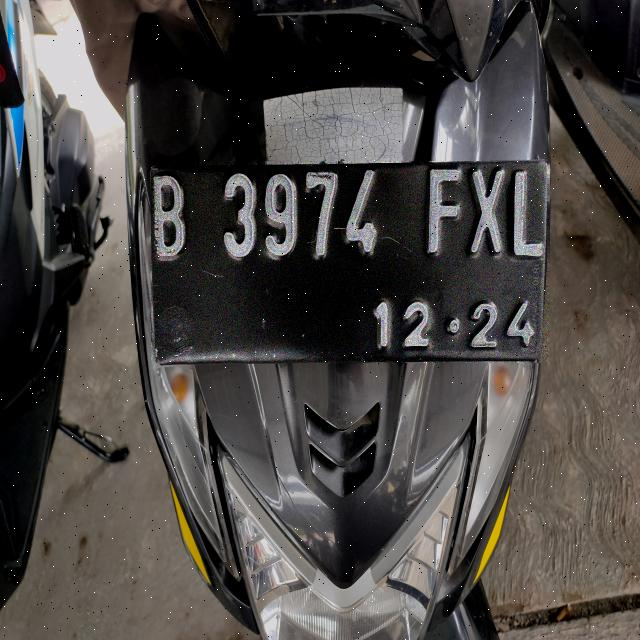plate: (151, 161, 547, 362)
